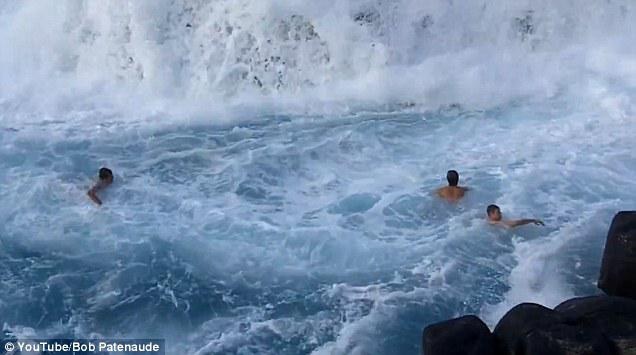swimmer: (486, 203, 546, 233), (436, 168, 468, 204), (87, 166, 114, 206)
